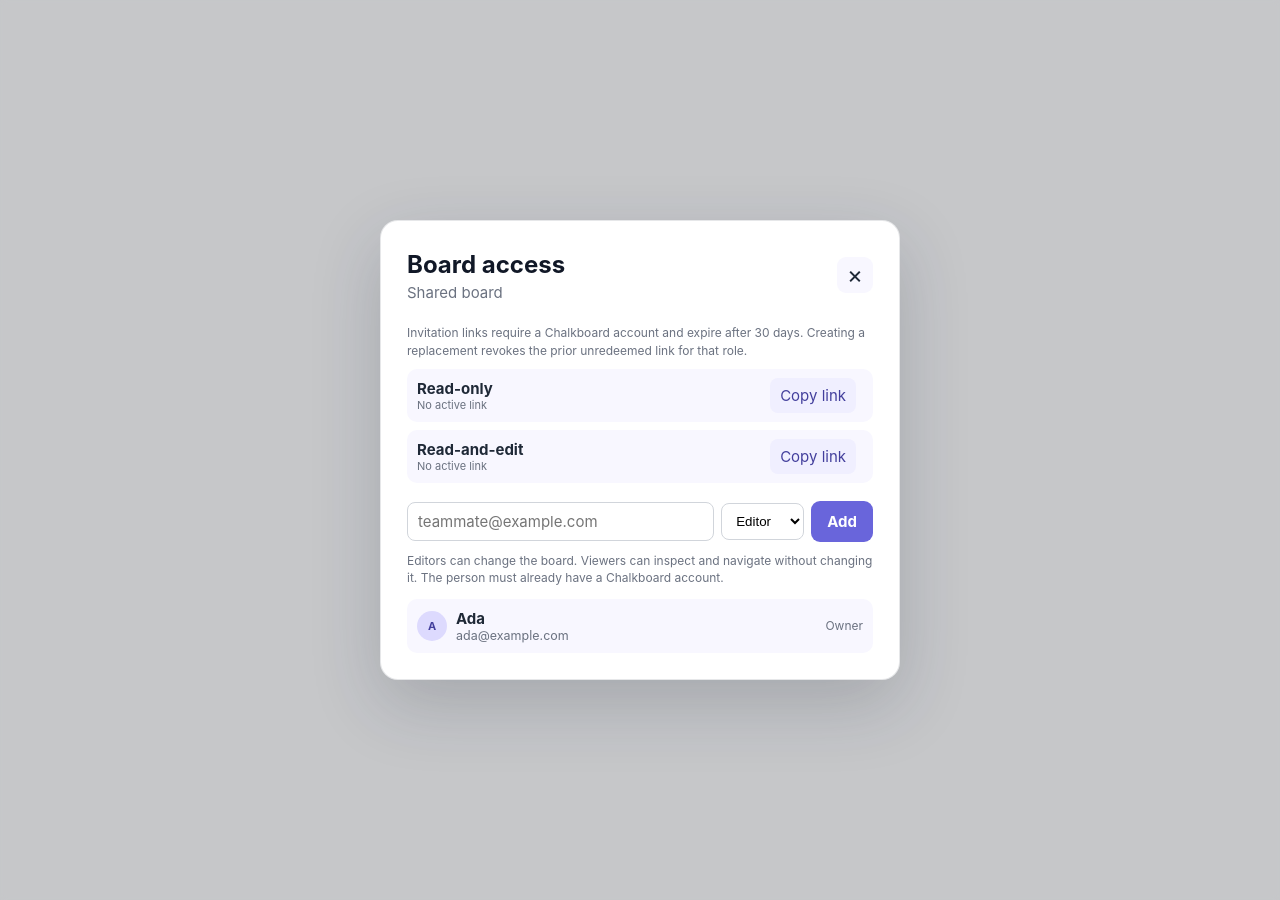
Test case: BoardAccessPanel › reports a share that produced an invitation rather than a member
Expected: the element named "Manage Shared board" is shown, [407,324,873,653]
Type "grace@example.com" into the field named "Member email" at [561, 522], box [407,502,714,541]
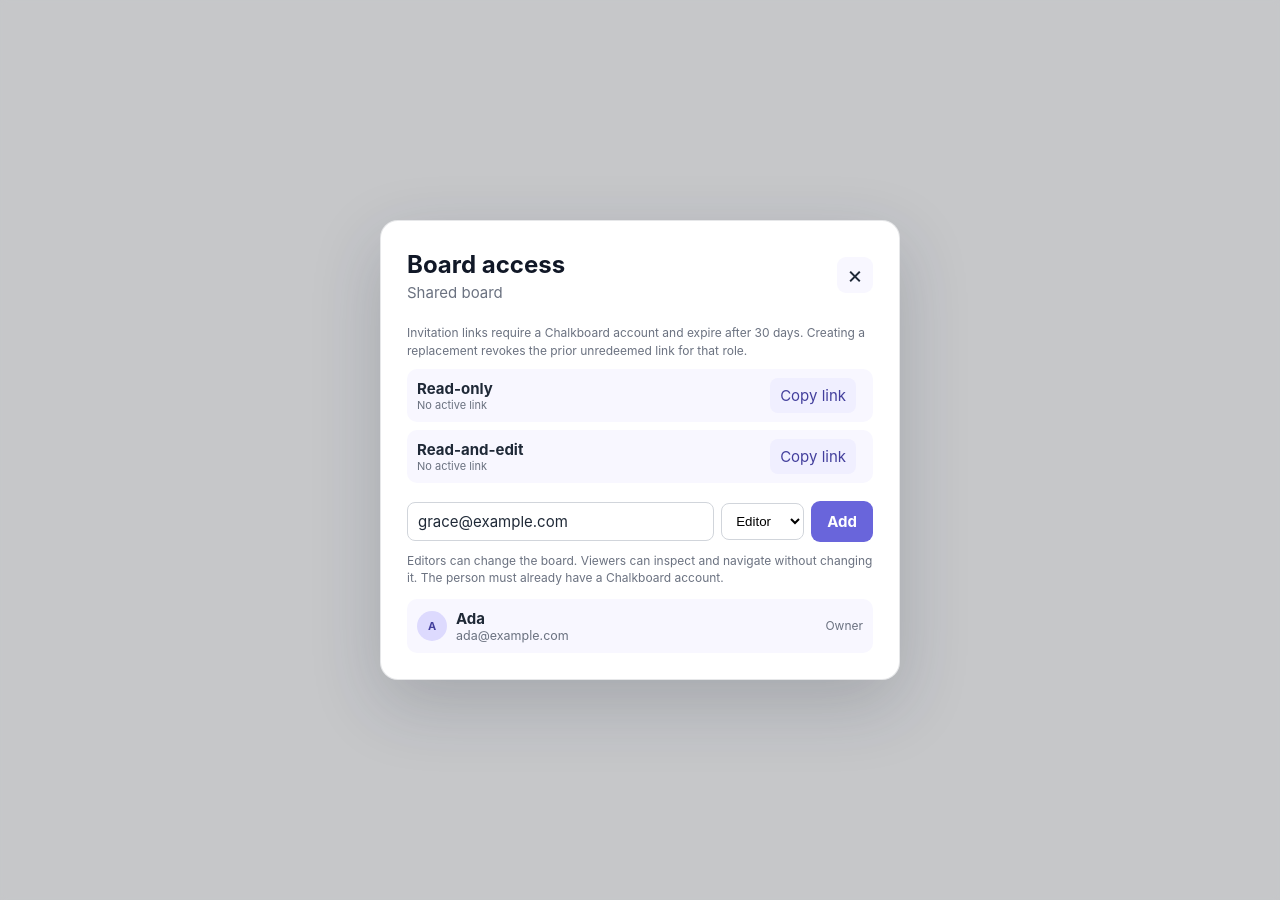
Click the button "Add" at [842, 522], box [811,501,873,542]
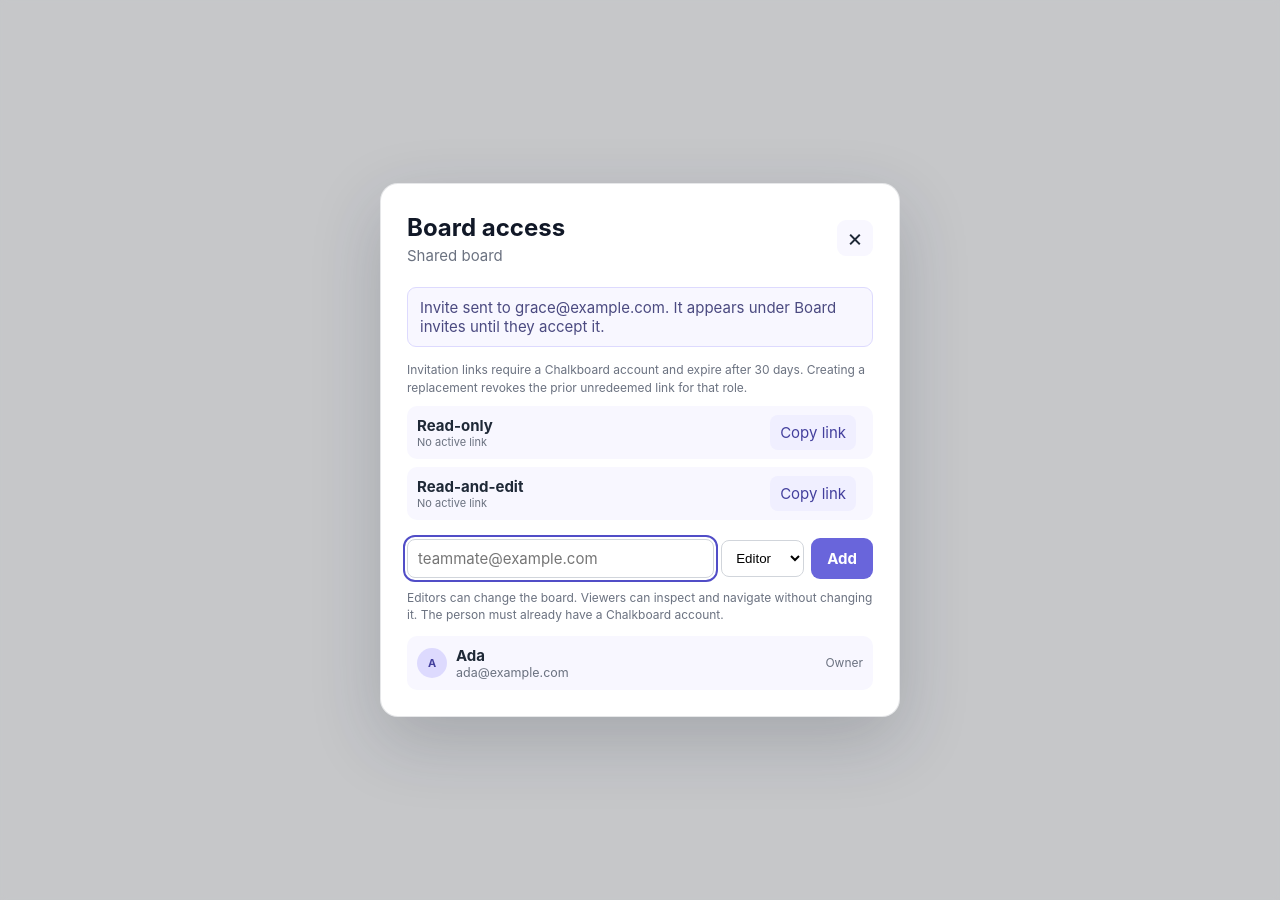
Expected: the message shows "Invite sent to grace@example.com", [420,298,836,336]
